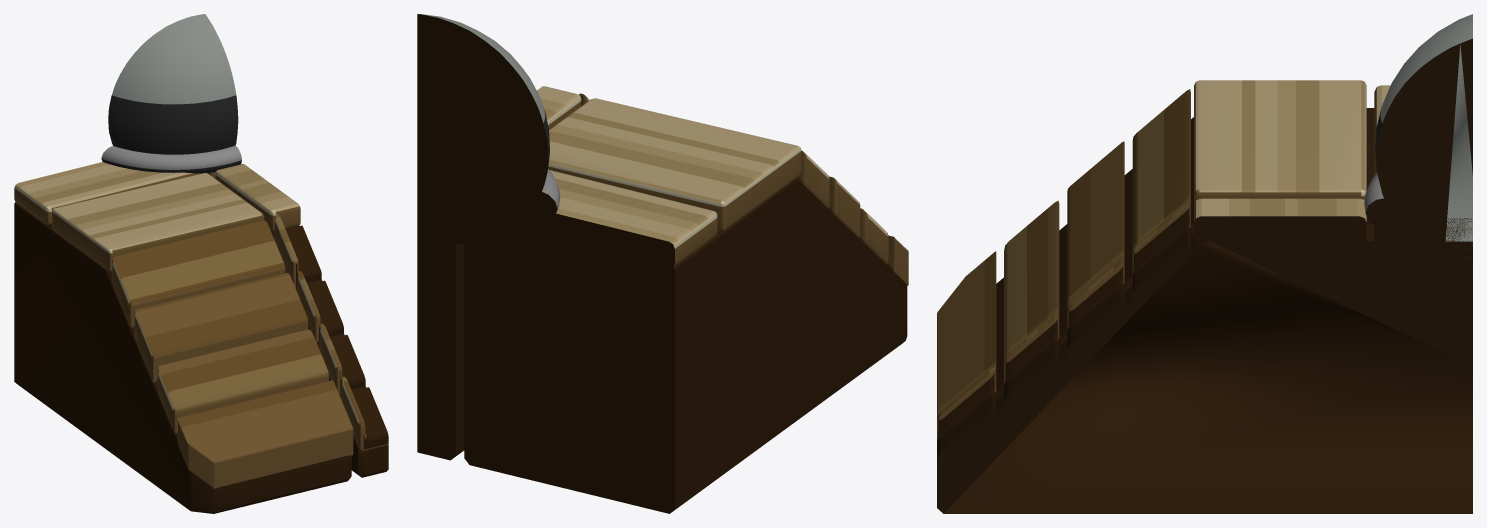
The model's file is mace_anchor_bl.glb.
3 renders of one model, left to right at view 1: azimuth 30°, elevation 25°; view 2: azimuth 150°, elevation 25°; view 3: azimuth 270°, elevation 25°, orthographic. The views are drawn at different scales.
Parts seen in each view (by area): view 1: left_core.001, ball.001, left_board3.001, left_plank2.001, left_board1.001, left_board0.001, left_board2.001, left_plank1.001, collar.001, right_plank2.001, right_board3.001, right_board0.001 (+3 smaller); view 2: left_core.001, ball.001, left_plank2.001, left_plank1.001, right_core.001, left_board1.001, right_plank2.001, collar.001, left_board0.001, left_board2.001, right_plank1.001, left_board3.001; view 3: right_core.001, left_plank2.001, ball.001, right_plank2.001, left_board1.001, left_board3.001, left_board0.001, left_board2.001, left_core.001, right_board3.001, right_board0.001, right_board1.001 (+3 smaller).
Part boxes in pixels (x1,y1,x2,y2): left_core.001: [14, 202, 351, 513]; ball.001: [108, 14, 238, 154]; left_board3.001: [178, 380, 353, 488]; left_plank2.001: [52, 173, 264, 271]; left_board1.001: [134, 273, 307, 382]; left_board0.001: [112, 220, 285, 327]; left_board2.001: [157, 329, 328, 433]; left_plank1.001: [14, 162, 200, 224]; collar.001: [101, 145, 241, 173]; right_plank2.001: [215, 164, 300, 230]; right_board3.001: [341, 376, 388, 451]; right_board0.001: [274, 214, 321, 287]; left_core.001: [464, 177, 907, 513]; ball.001: [417, 14, 549, 244]; left_plank2.001: [548, 98, 801, 230]; left_plank1.001: [464, 170, 717, 267]; right_core.001: [417, 202, 464, 460]; left_board1.001: [829, 176, 860, 238]; right_plank2.001: [537, 86, 581, 129]; collar.001: [522, 169, 560, 218]; left_board0.001: [798, 150, 829, 208]; left_board2.001: [860, 208, 888, 264]; right_plank1.001: [417, 180, 455, 214]; left_board3.001: [888, 235, 908, 286]; right_core.001: [937, 224, 1472, 513]; left_plank2.001: [1194, 80, 1366, 204]; ball.001: [1375, 14, 1472, 245]; right_plank2.001: [1194, 198, 1366, 247]; left_board1.001: [1067, 141, 1124, 309]; left_board3.001: [937, 251, 996, 418]; left_board0.001: [1132, 89, 1190, 251]; left_board2.001: [1004, 200, 1059, 361]; left_core.001: [996, 108, 1374, 399]; right_board3.001: [937, 366, 996, 472]; right_board0.001: [1132, 201, 1190, 308]; right_board1.001: [1067, 259, 1124, 363].
Size of the model in its own units: 14.8 by 24.15 by 24.6.
